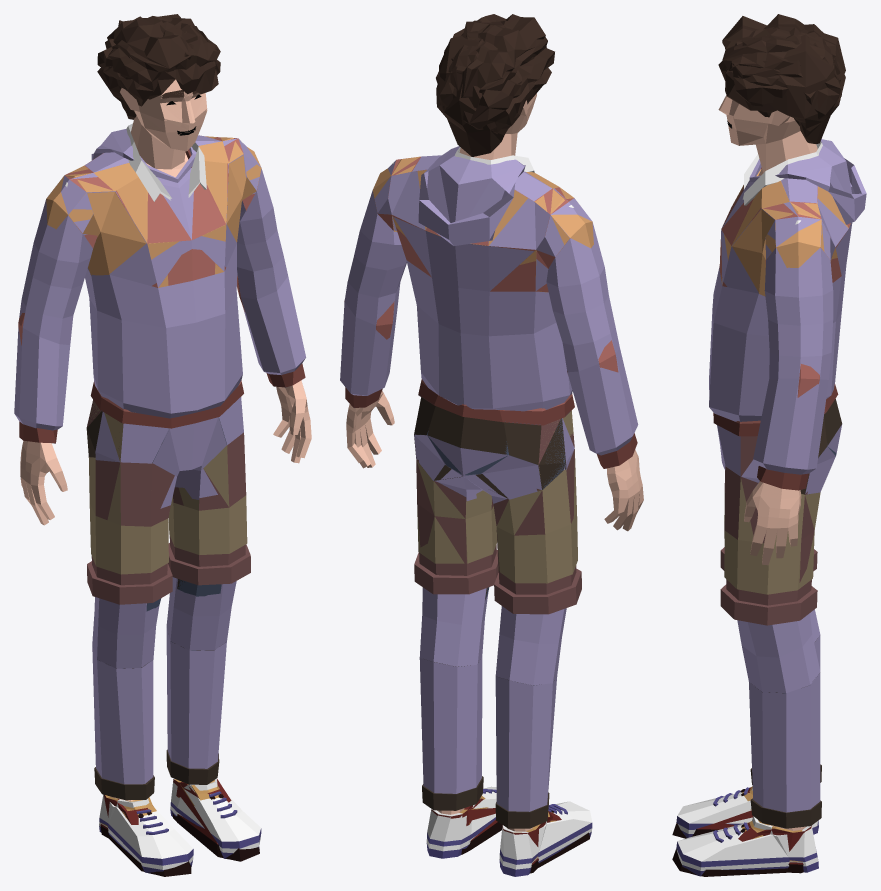
The model's file is AdamRelaxedNotRiggedAllClothes.fbx.
The picture shows the model from 3 angles, left to right: view 1: azimuth 30°, elevation 25°; view 2: azimuth 150°, elevation 25°; view 3: azimuth 270°, elevation 25°; orthographic projection. The views are drawn at different scales.
Visible parts, largest first — view 1: Sweatshirt, Sweatpants.002, T-shirt, Shorts 2.002, Sweater, Shorts 1.002, Shoes 3.002, Hair 1.002, Shirt, Shoes 2.002, Pants 1.002, Hair 4.002 (+4 smaller); view 2: Sweatshirt, Sweatpants.002, Shorts 1.002, Shorts 2.002, Sweater, Pants 1.002, Hair 1.002, Shoes 3.002, T-shirt, Hair 4.002, Shoes 2.002, Hair 3.002 (+1 smaller); view 3: Sweatshirt, Sweatpants.002, T-shirt, Shoes 3.002, Shorts 2.002, Shorts 1.002, Hair 1.002, Hair 4.002, Sweater, Hair 3.002, Shirt, Shoes 2.002 (+5 smaller).
Part boxes in pixels (x1,y1,x2,y2): Sweatshirt: [14, 116, 311, 524]; Sweatpants.002: [92, 397, 243, 784]; T-shirt: [22, 115, 305, 476]; Shorts 2.002: [86, 400, 250, 604]; Sweater: [18, 118, 305, 524]; Shorts 1.002: [86, 401, 247, 574]; Shoes 3.002: [99, 778, 261, 873]; Hair 1.002: [97, 15, 220, 106]; Shirt: [27, 123, 311, 525]; Shoes 2.002: [100, 779, 259, 876]; Pants 1.002: [86, 411, 219, 800]; Hair 4.002: [108, 14, 218, 119]; Sweatshirt: [340, 133, 643, 521]; Sweatpants.002: [414, 418, 574, 811]; Shorts 1.002: [417, 410, 577, 583]; Shorts 2.002: [414, 419, 581, 614]; Sweater: [344, 144, 639, 530]; Pants 1.002: [414, 397, 566, 828]; Hair 1.002: [436, 14, 554, 133]; Shoes 3.002: [426, 786, 592, 876]; T-shirt: [346, 133, 642, 531]; Hair 4.002: [439, 35, 536, 156]; Shoes 2.002: [431, 798, 589, 873]; Hair 3.002: [444, 17, 534, 107]; Sweatshirt: [709, 131, 866, 564]; Sweatpants.002: [717, 424, 842, 812]; T-shirt: [721, 131, 848, 564]; Shoes 3.002: [676, 787, 818, 876]; Shorts 2.002: [720, 436, 817, 625]; Shorts 1.002: [724, 466, 820, 594]; Hair 1.002: [722, 14, 845, 125]; Hair 4.002: [718, 33, 845, 143]; Sweater: [713, 132, 850, 564]; Hair 3.002: [722, 27, 840, 85]; Shirt: [742, 136, 822, 565]; Shoes 2.002: [672, 787, 811, 876].
Bounding box in the file's own units: 0.7089 × 1.95 × 0.4174.
